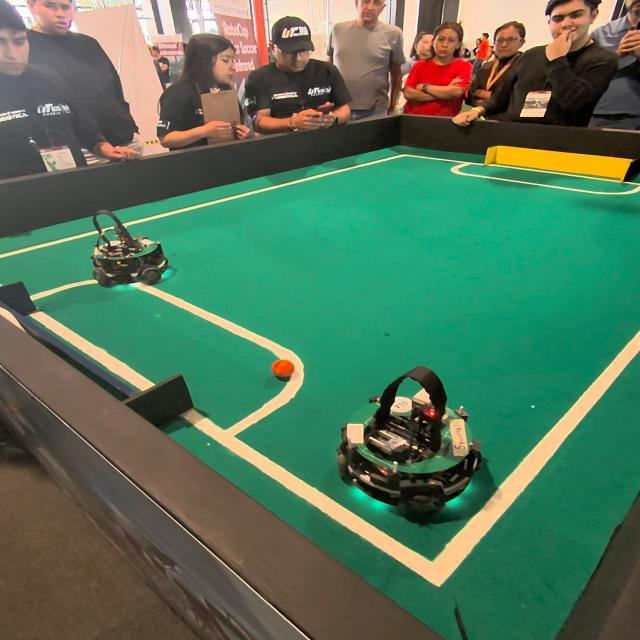Robot: (345, 356, 496, 531), (90, 207, 179, 290)
pelota: (271, 359, 298, 380)
